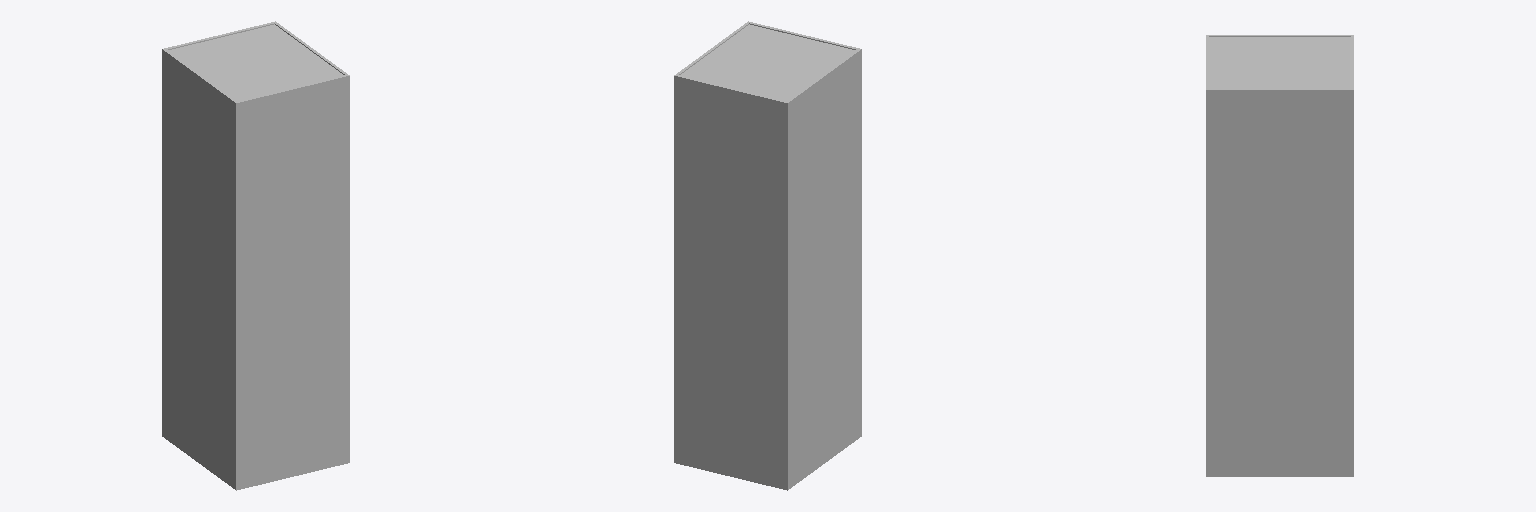
Rendered from building7.obj.
The picture shows the model from 3 angles: view 1: azimuth 30°, elevation 25°; view 2: azimuth 150°, elevation 25°; view 3: azimuth 270°, elevation 25°; orthographic projection.
Parts seen in each view (by area): view 1: grp_building_geo80 building_grp; view 2: grp_building_geo80 building_grp; view 3: grp_building_geo80 building_grp.
Boxes of the visible parts, x1=… form: grp_building_geo80 building_grp: x1=162, y1=21, x2=349, y2=490; grp_building_geo80 building_grp: x1=674, y1=21, x2=861, y2=490; grp_building_geo80 building_grp: x1=1206, y1=35, x2=1353, y2=476.
Bounding box in the file's own units: 3.43 × 11.18 × 3.88.